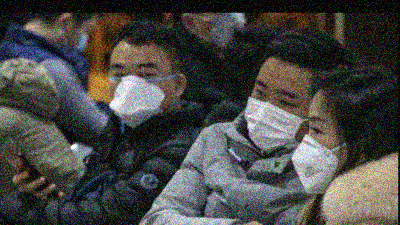with_mask: (242, 77, 303, 153), (288, 113, 340, 197), (109, 60, 167, 127), (198, 13, 246, 55), (60, 23, 94, 64)
